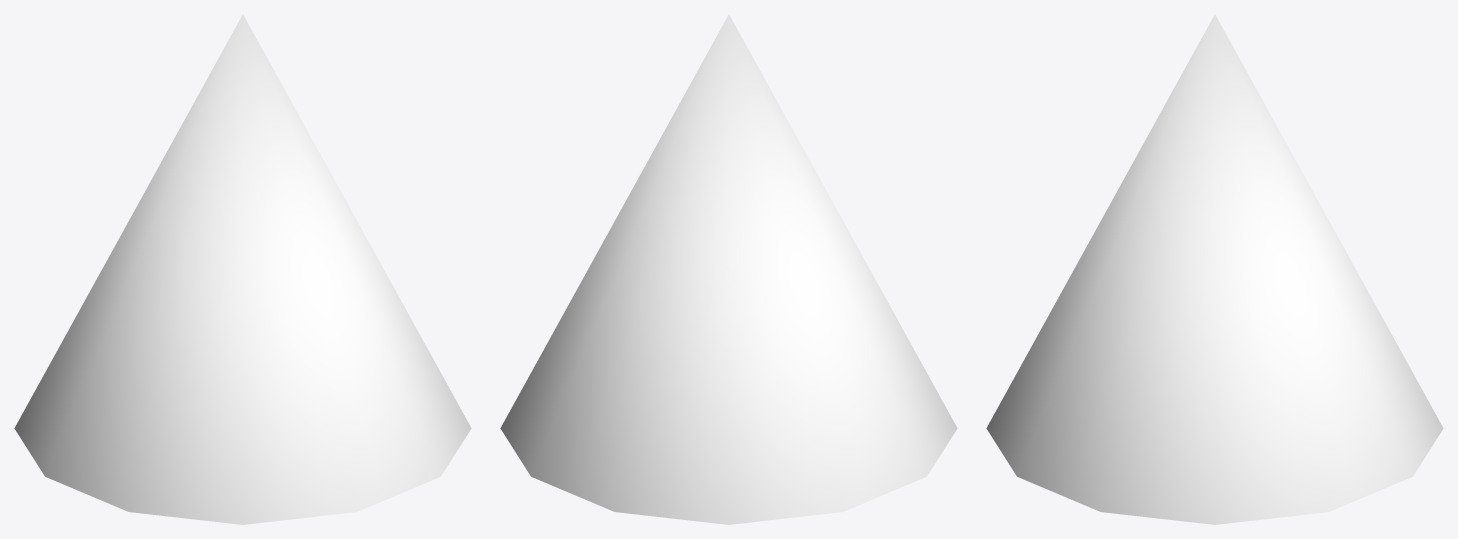
3 renders of one model, left to right at view 1: azimuth 30°, elevation 25°; view 2: azimuth 150°, elevation 25°; view 3: azimuth 270°, elevation 25°, orthographic.
Visible parts, largest first — view 1: pCone1; view 2: pCone1; view 3: pCone1.
Boxes of the visible parts, <box> form: pCone1: <box>14,14,471,524</box>; pCone1: <box>500,14,957,524</box>; pCone1: <box>986,14,1443,524</box>.
Size of the model in its own units: 2 by 2 by 2.
1 material, 1 textured.
